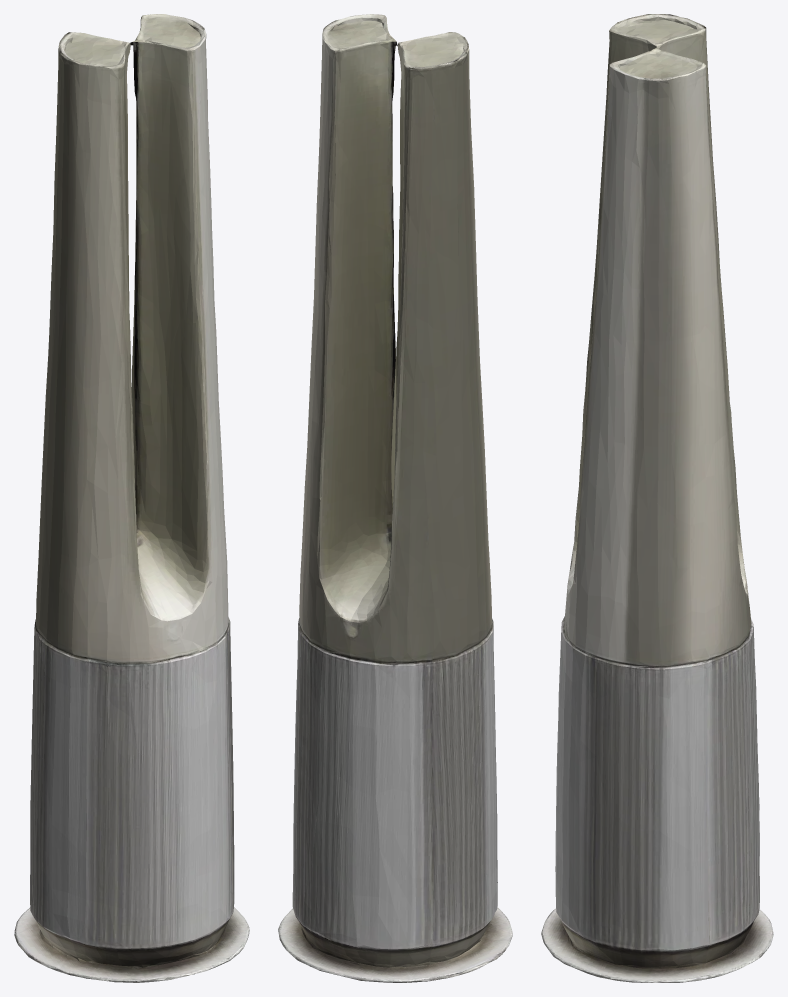
The model's file is d2d9fb3c-bb2e-4ae7-8847-32dddef9371f.glb.
3 views of the same model, side by side, from view 1: azimuth 30°, elevation 25°; view 2: azimuth 150°, elevation 25°; view 3: azimuth 270°, elevation 25° (orthographic).
Visible parts, largest first — view 1: world; view 2: world; view 3: world.
Part boxes in pixels (x1,y1,x2,y2): world: (14,14,249,982); world: (278,14,512,982); world: (541,14,773,982).
Bounding box in the file's own units: 0.2392 × 1 × 0.2377.
1 material, 1 textured.
